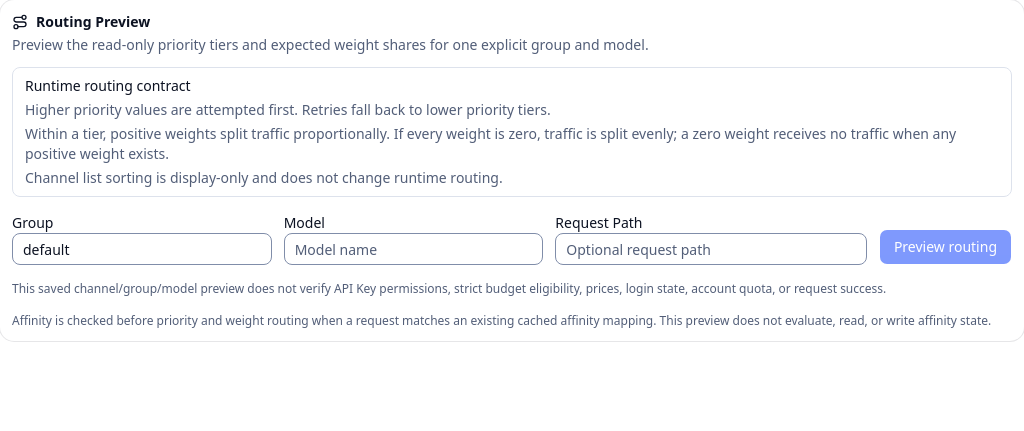
Test case: account scheduling preview › old snapshots do not invent disabled settings or confirmed account affinity
The width and height of the screenshot is (1024, 431).
Type "public-model" into the field named "Routing preview model" at (413, 249), box top-left (284, 233), bottom-right (543, 265)
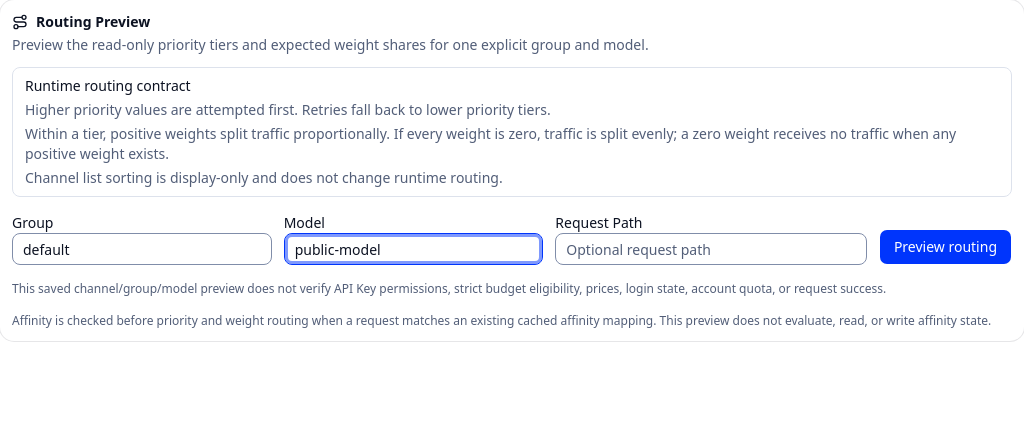
Click the button "Preview routing" at (945, 247), box top-left (879, 229), bottom-right (1012, 265)
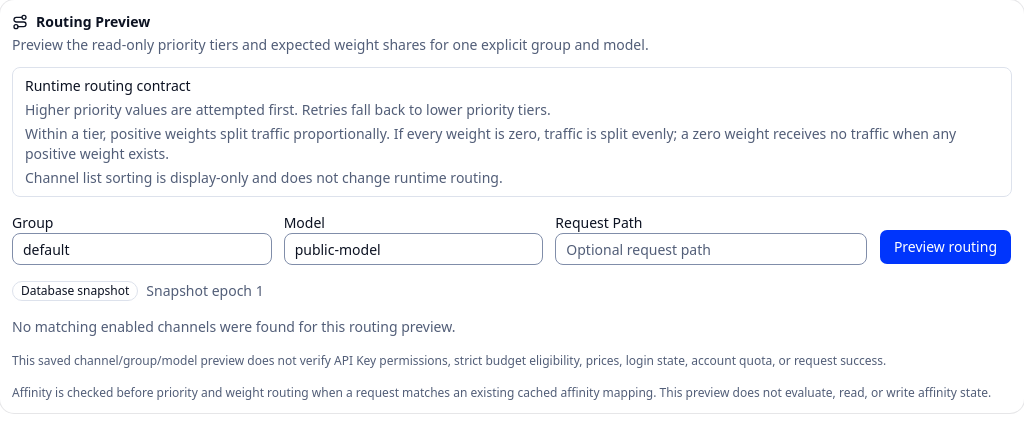
expect the text "This preview does not evaluate, read, or write affinity state" is shown: met, box top-left (12, 384), bottom-right (991, 401)
expect the text "Database snapshot" is shown: met, box top-left (12, 281), bottom-right (138, 301)
